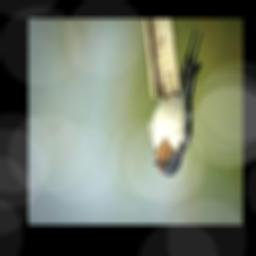Swallow: (148, 27, 203, 175)
